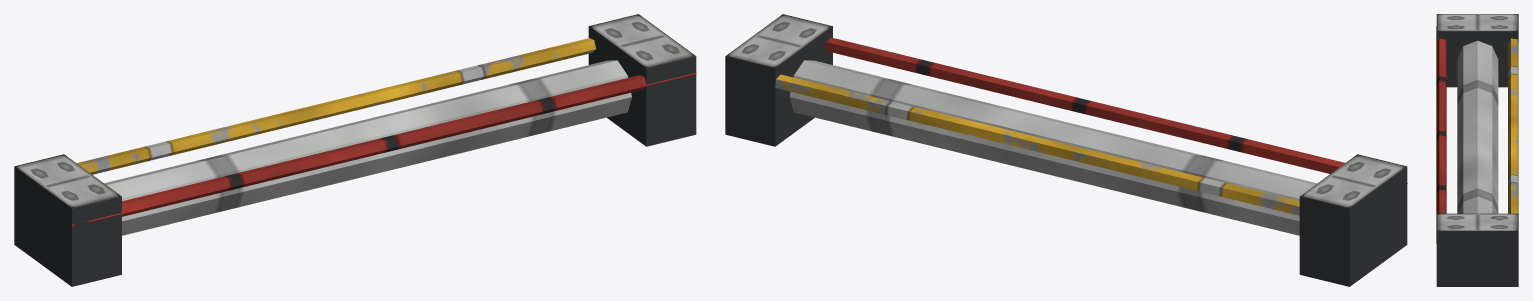
Rendered from wing_boom.fbx.
3 renders of one model, left to right at view 1: azimuth 30°, elevation 25°; view 2: azimuth 150°, elevation 25°; view 3: azimuth 270°, elevation 25°, orthographic. The views are drawn at different scales.
Visible parts, largest first — view 1: wing_boom; view 2: wing_boom; view 3: wing_boom.
Boxes of the visible parts, <box> form: wing_boom: <box>14,14,696,286</box>; wing_boom: <box>725,14,1407,286</box>; wing_boom: <box>1436,14,1518,286</box>.
Size of the model in its own units: 1 by 0.12 by 0.1609.
1 material, 1 textured.
